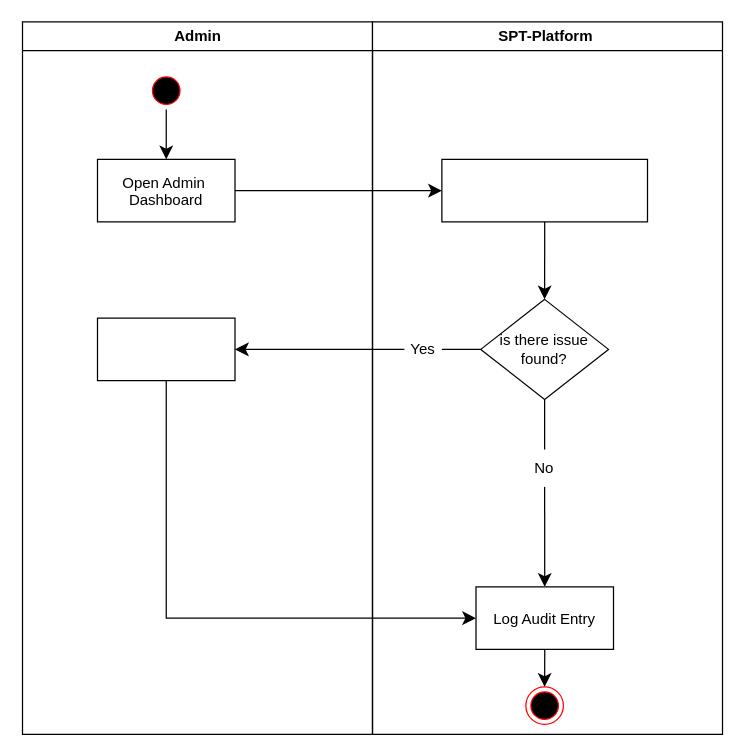
Image size: 744x756. Some labels were removed from this diagram. Here are the shapes that lost their labels. From the top down, the centre of each, then its label:
At [544,190]: "Display Health, Security & AI usage".
At [165,349]: "Review metrics & Apply Fix".
